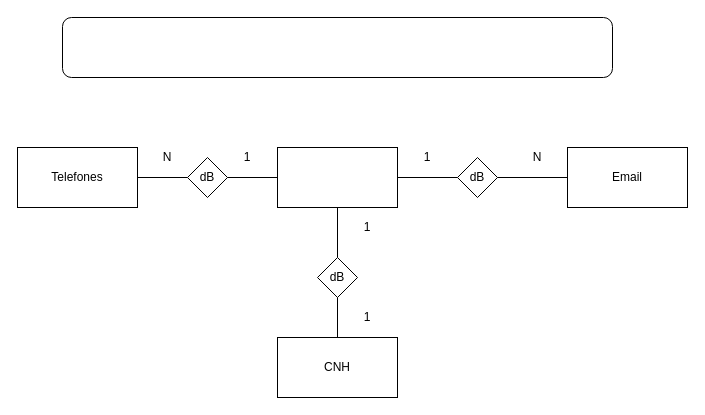
Some shapes in this 705 by 415 pixel diagram are drawn without their labels. The shapes that lost their labels are listed below. From the top down, each one's centre as x and y in pixels, then its label:
At (337,47): "Modelagem_Conceitual".
At (337,177): "Pessoa".
